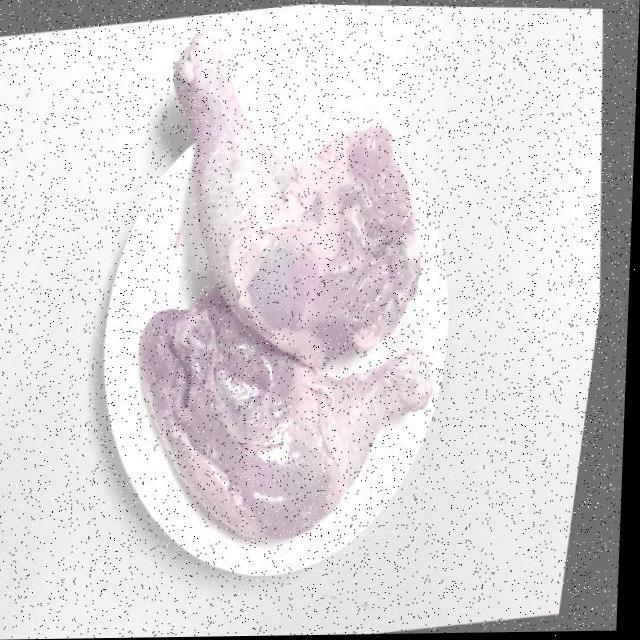quater: (147, 29, 448, 357), (137, 298, 454, 535)
